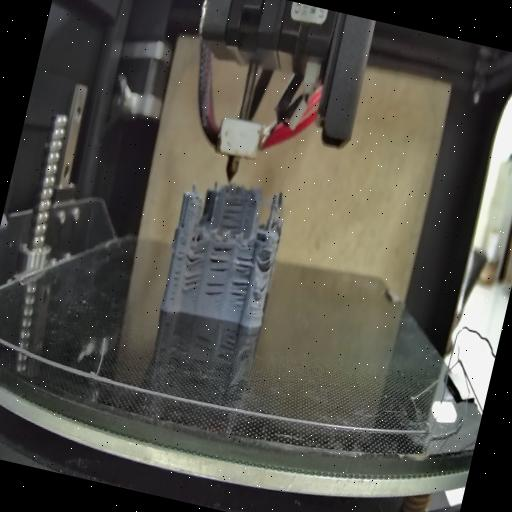cracks: (164, 241, 188, 305), (218, 193, 248, 232), (208, 243, 236, 278), (227, 278, 251, 311), (232, 248, 256, 276), (203, 280, 227, 306), (185, 247, 207, 270), (181, 274, 200, 294), (262, 250, 275, 272), (257, 282, 270, 298), (179, 217, 188, 230)
